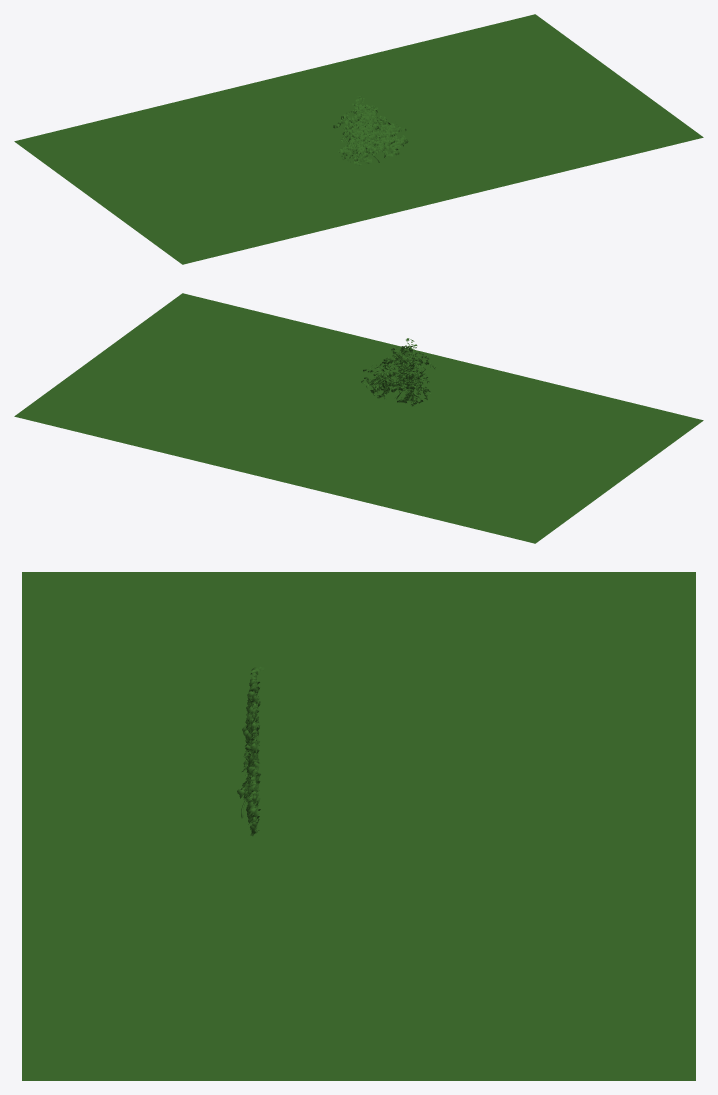
File: Ivy.obj
The picture shows the model from 3 angles, top to bottom: view 1: azimuth 30°, elevation 25°; view 2: azimuth 150°, elevation 25°; view 3: azimuth 270°, elevation 25°; orthographic projection. The views are drawn at different scales.
Bounding box in the file's own units: 1667 × 219 × 933.
